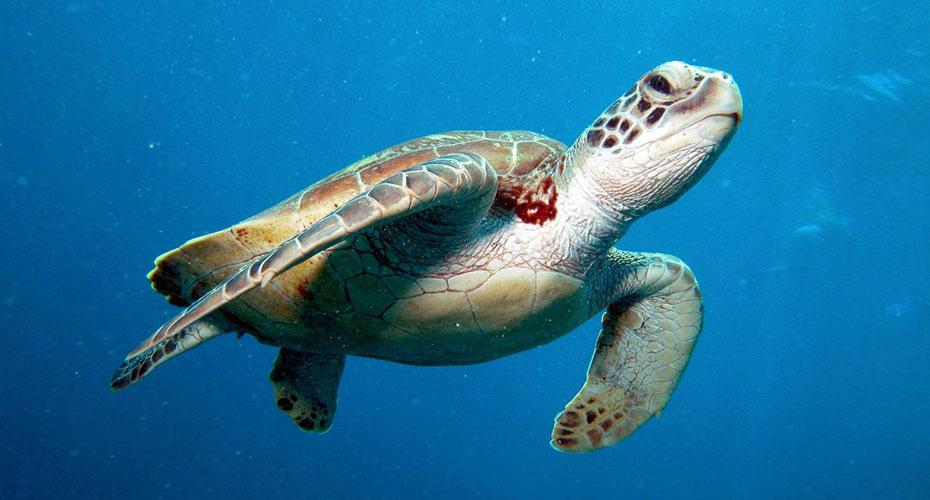turtle: (579, 49, 750, 226)
